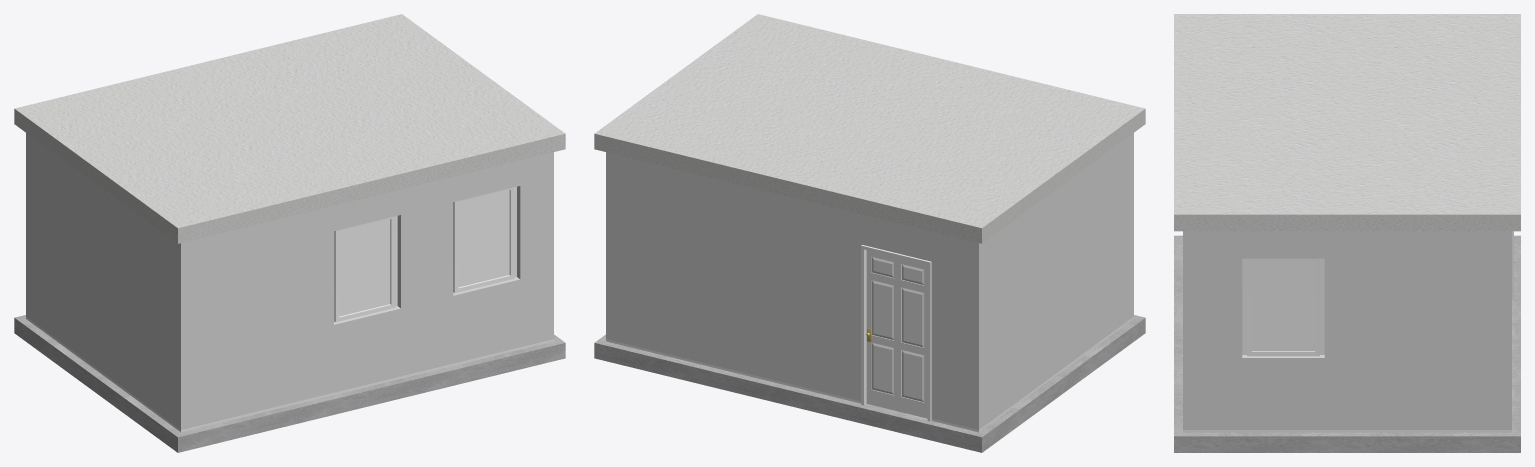
Rendered from FloorPlan226_physics.fbx.
3 renders of one model, left to right at view 1: azimuth 30°, elevation 25°; view 2: azimuth 150°, elevation 25°; view 3: azimuth 270°, elevation 25°, orthographic. The views are drawn at different scales.
Visible parts, largest first — view 1: FP226:StandardWallSize, FP226:Ceiling, FP226:Floor, FP226:polySurface2, FP226:polySurface1, FP226:StandardWindow1 (×2); view 2: FP226:StandardWallSize, FP226:Ceiling, FP226:Floor, FP226:StandardDoor1, FP226:StandardDoorFrame1; view 3: FP226:Ceiling, FP226:StandardWallSize, FP226:Floor, FP226:polySurface3, FP226:StandardWindow1, FP226:WindowTreatment2.
Boxes of the visible parts, bbox=[...] form: FP226:StandardWallSize: bbox=[26, 133, 553, 432]; FP226:Ceiling: bbox=[14, 14, 565, 243]; FP226:Floor: bbox=[14, 315, 565, 452]; FP226:polySurface2: bbox=[458, 190, 509, 287]; FP226:polySurface1: bbox=[339, 219, 390, 316]; FP226:StandardWindow1 (×2): bbox=[334, 187, 514, 322]; FP226:StandardWallSize: bbox=[606, 133, 1133, 432]; FP226:Ceiling: bbox=[594, 14, 1145, 243]; FP226:Floor: bbox=[594, 315, 1145, 452]; FP226:StandardDoor1: bbox=[866, 250, 927, 418]; FP226:StandardDoorFrame1: bbox=[861, 245, 931, 421]; FP226:Ceiling: bbox=[1174, 14, 1520, 231]; FP226:StandardWallSize: bbox=[1183, 231, 1511, 432]; FP226:Floor: bbox=[1174, 235, 1520, 452]; FP226:polySurface3: bbox=[1251, 261, 1315, 351]; FP226:StandardWindow1: bbox=[1247, 258, 1319, 356]; FP226:WindowTreatment2: bbox=[1242, 258, 1324, 354].
Bounding box in the file's own units: 520 × 288 × 380.
